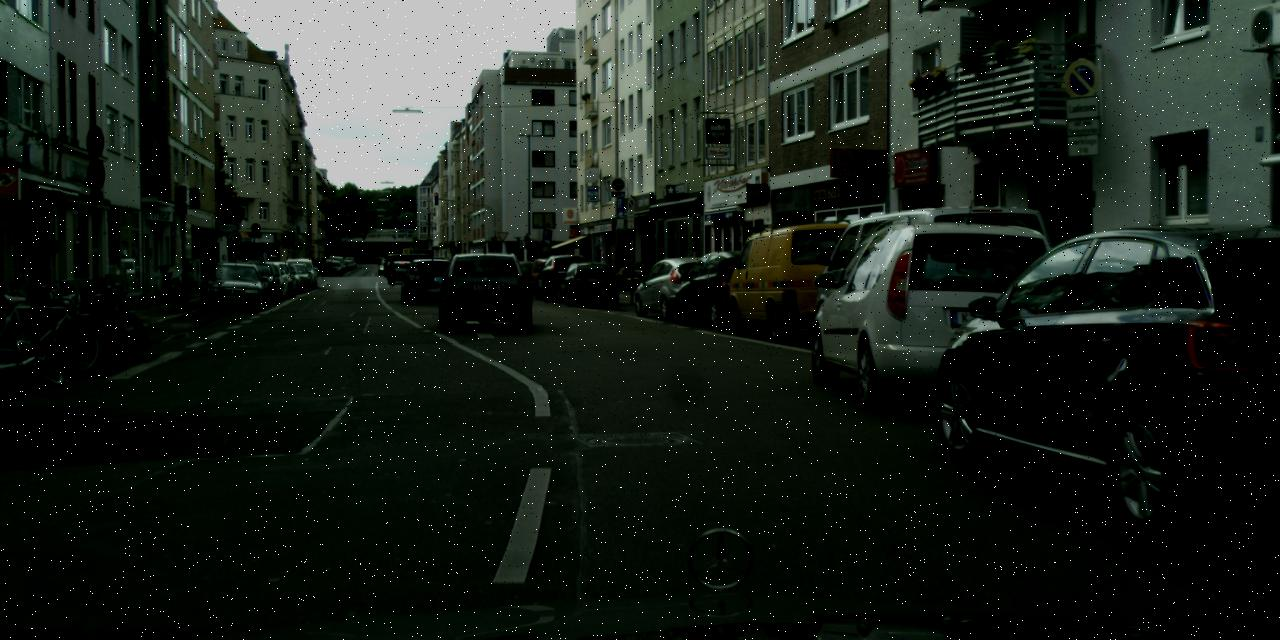ped: (683, 250, 701, 294), (386, 260, 396, 283), (318, 257, 326, 274)
